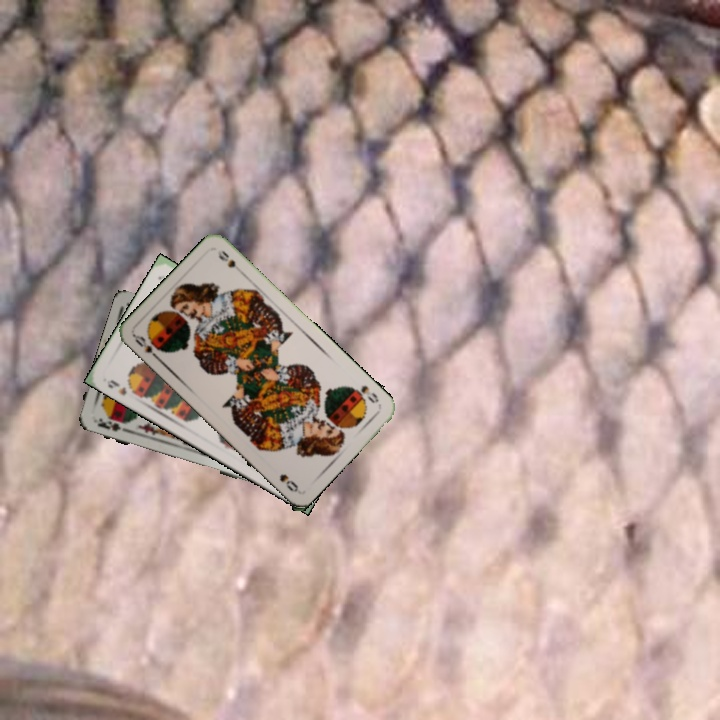S9: (103, 376, 140, 398)
SK: (93, 413, 129, 434)
SO: (131, 331, 163, 364), (347, 381, 381, 406)
